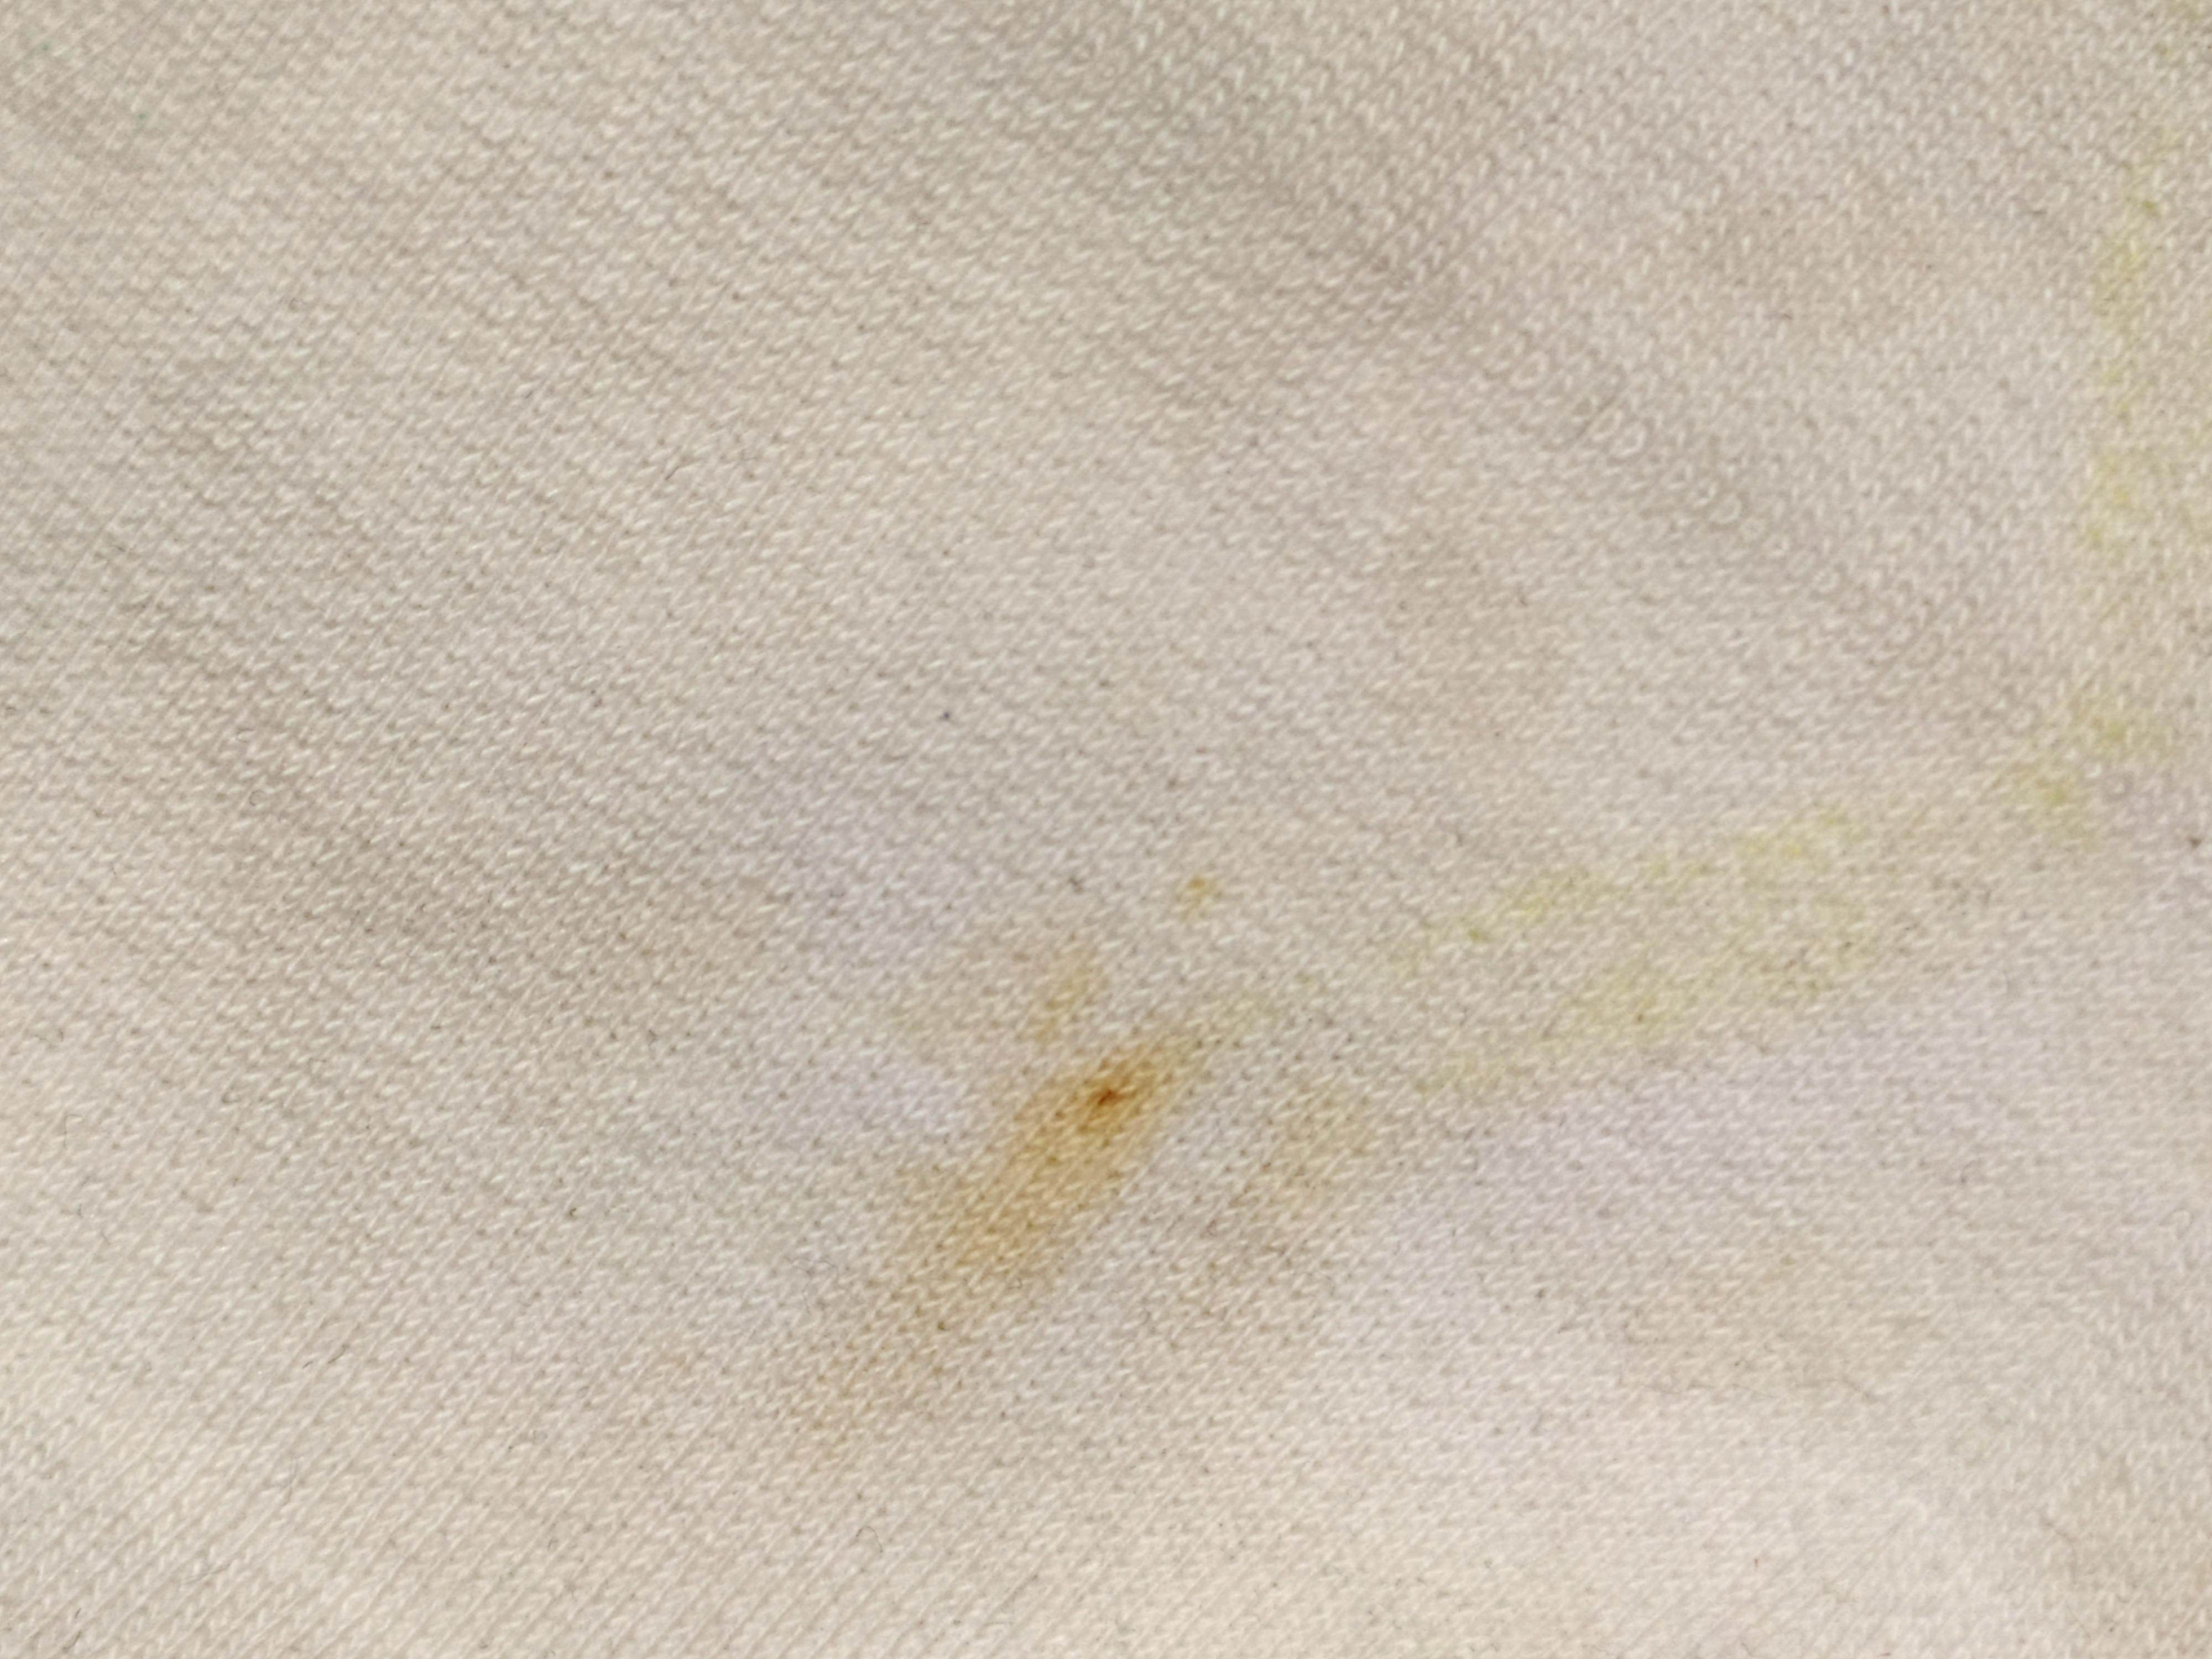stain: (974, 960, 1211, 1328)
